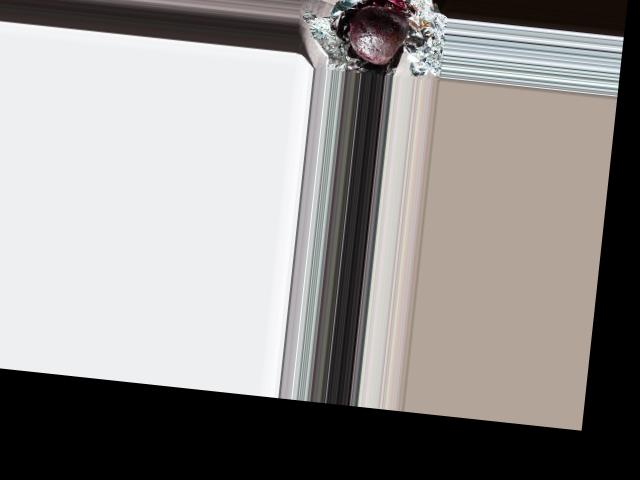beet: (345, 5, 411, 67)
